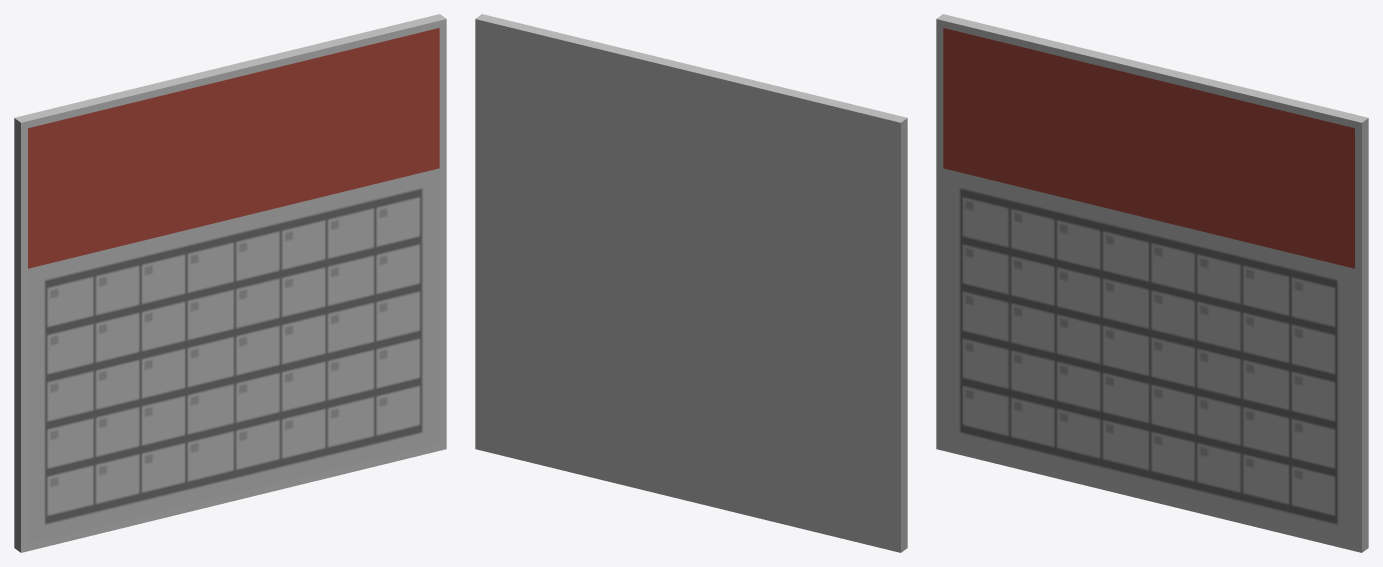
The model's file is SO_Calendar.fbx.
The picture shows the model from 3 angles, left to right: view 1: azimuth 30°, elevation 25°; view 2: azimuth 150°, elevation 25°; view 3: azimuth 330°, elevation 25°; orthographic projection.
Visible parts, largest first — view 1: SO_Calendar; view 2: SO_Calendar; view 3: SO_Calendar.
Boxes of the visible parts, left/top/right/bottom form: SO_Calendar: left=14, top=14, right=446, bottom=552; SO_Calendar: left=475, top=14, right=907, bottom=552; SO_Calendar: left=936, top=14, right=1368, bottom=552.
Size of the model in its own units: 0.7603 by 0.7342 by 0.0211.
